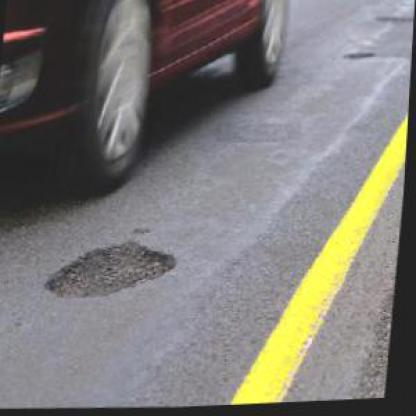pothole: (48, 236, 184, 302), (344, 50, 378, 65), (136, 225, 157, 237)
